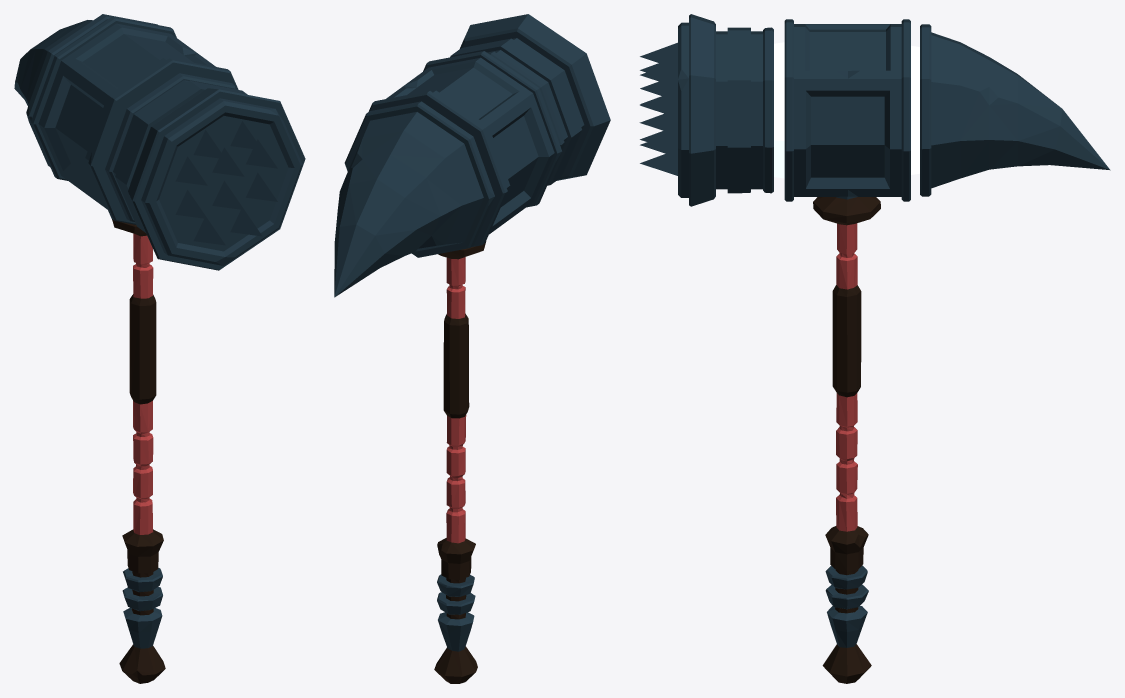
Rendered from SFFA_Weapon_Hammer_Gold_002.fbx.
The picture shows the model from 3 angles, left to right: view 1: azimuth 30°, elevation 25°; view 2: azimuth 150°, elevation 25°; view 3: azimuth 270°, elevation 25°; orthographic projection. The views are drawn at different scales.
Parts seen in each view (by area): view 1: SFFA_Weapon_Hammer_Gold_002; view 2: SFFA_Weapon_Hammer_Gold_002; view 3: SFFA_Weapon_Hammer_Gold_002.
Boxes of the visible parts, x1,y1,x2,y2 form: SFFA_Weapon_Hammer_Gold_002: (14,14,305,683); SFFA_Weapon_Hammer_Gold_002: (334,14,610,683); SFFA_Weapon_Hammer_Gold_002: (639,14,1110,683).
Bounding box in the file's own units: 35.26 × 126 × 80.97.
